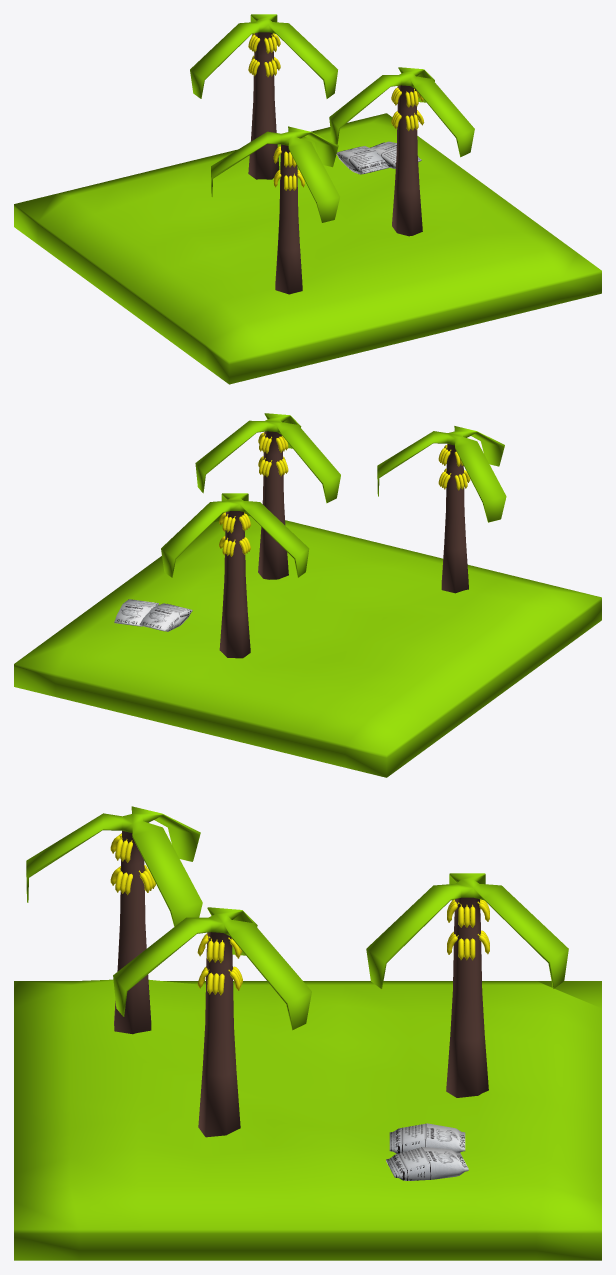
Rendered from TheBananaFarm.fbx.
3 views of the same model, one above another, from view 1: azimuth 30°, elevation 25°; view 2: azimuth 150°, elevation 25°; view 3: azimuth 270°, elevation 25° (orthographic). The views are drawn at different scales.
Visible parts, largest first — view 1: Plane.020, Plane.009; view 2: Plane.020, Plane.009; view 3: Plane.020, Plane.009.
Part boxes in pixels (bbox=[...]): Plane.020: bbox=[14, 113, 601, 384]; Plane.009: bbox=[190, 14, 474, 294]; Plane.020: bbox=[14, 513, 601, 777]; Plane.009: bbox=[114, 413, 506, 658]; Plane.020: bbox=[14, 979, 601, 1260]; Plane.009: bbox=[26, 806, 568, 1180].
Bounding box in the file's own units: 2457 × 1209 × 2457.
